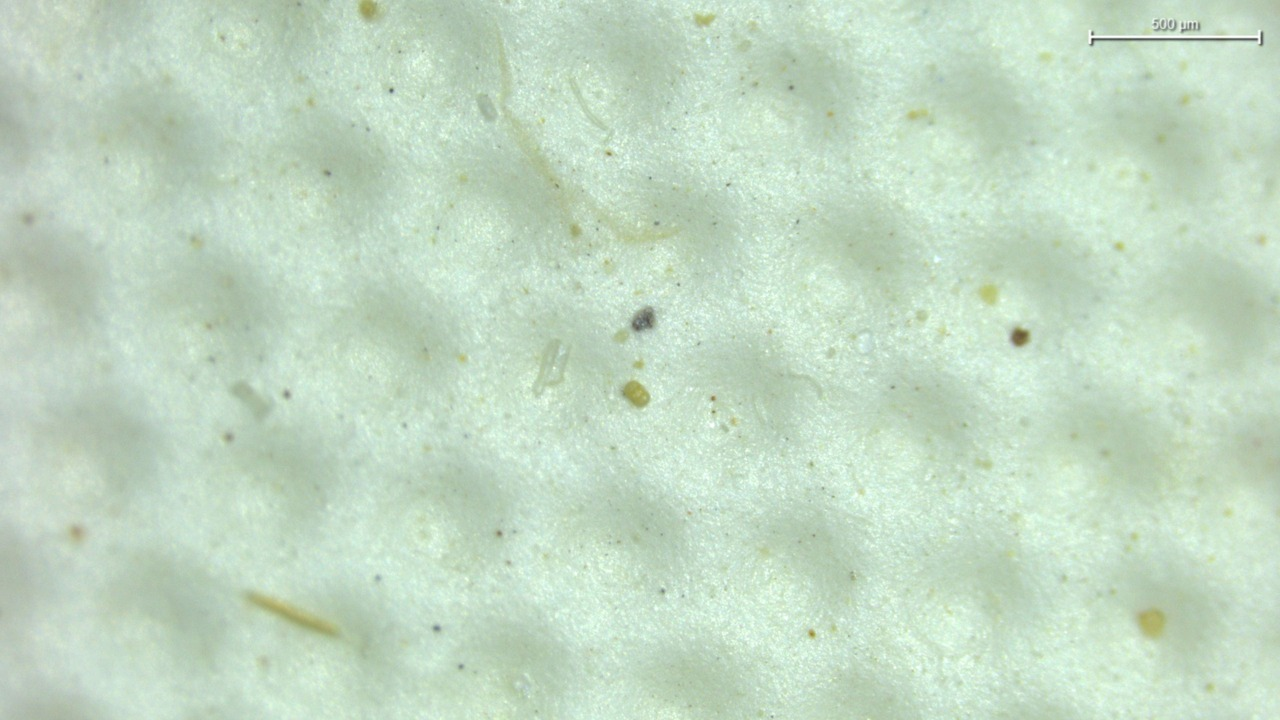microplastic_fragment: (532, 339, 568, 397)
